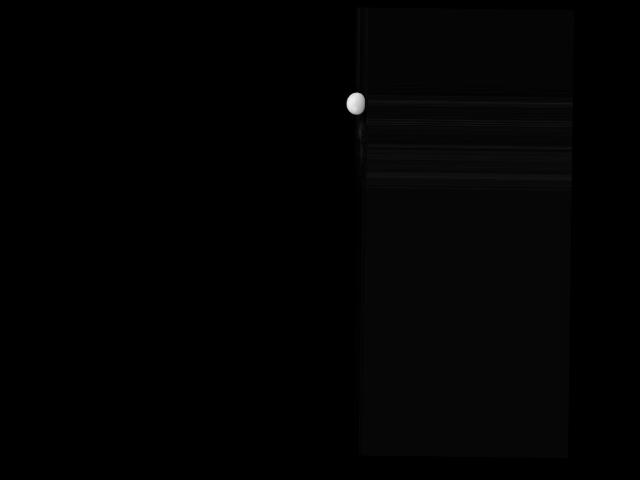egg: (346, 92, 365, 115)
